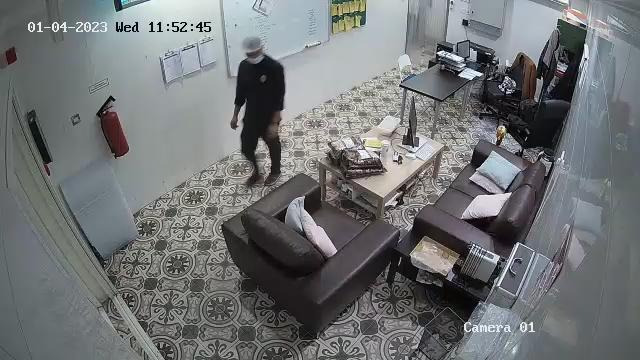no_apron: (242, 60, 279, 126)
